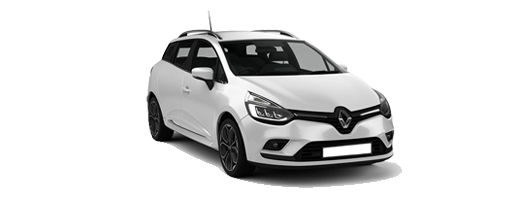car: (142, 10, 402, 180)
